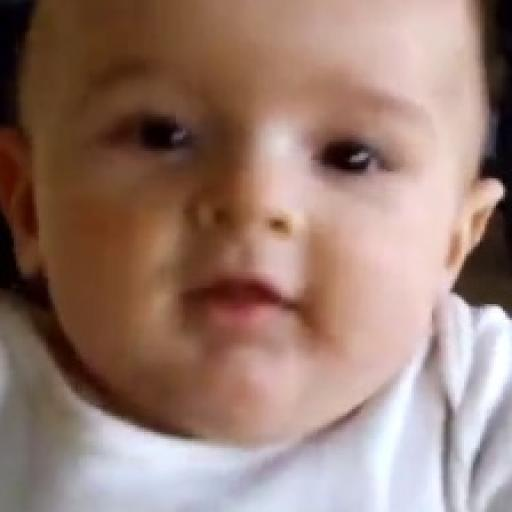Autism: (17, 2, 502, 434)
